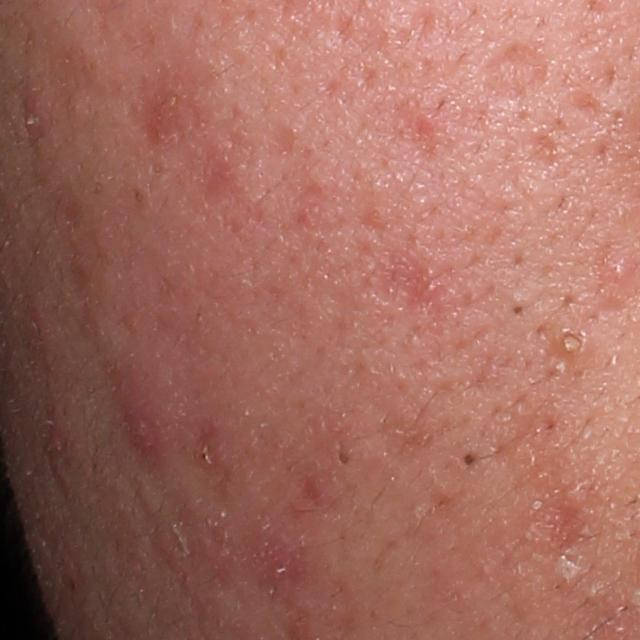atrophic_scar: (483, 42, 550, 97), (555, 85, 616, 138), (520, 128, 563, 173)
comedo: (330, 441, 360, 472), (461, 452, 480, 470)
papule: (105, 378, 182, 470), (601, 254, 630, 283)
